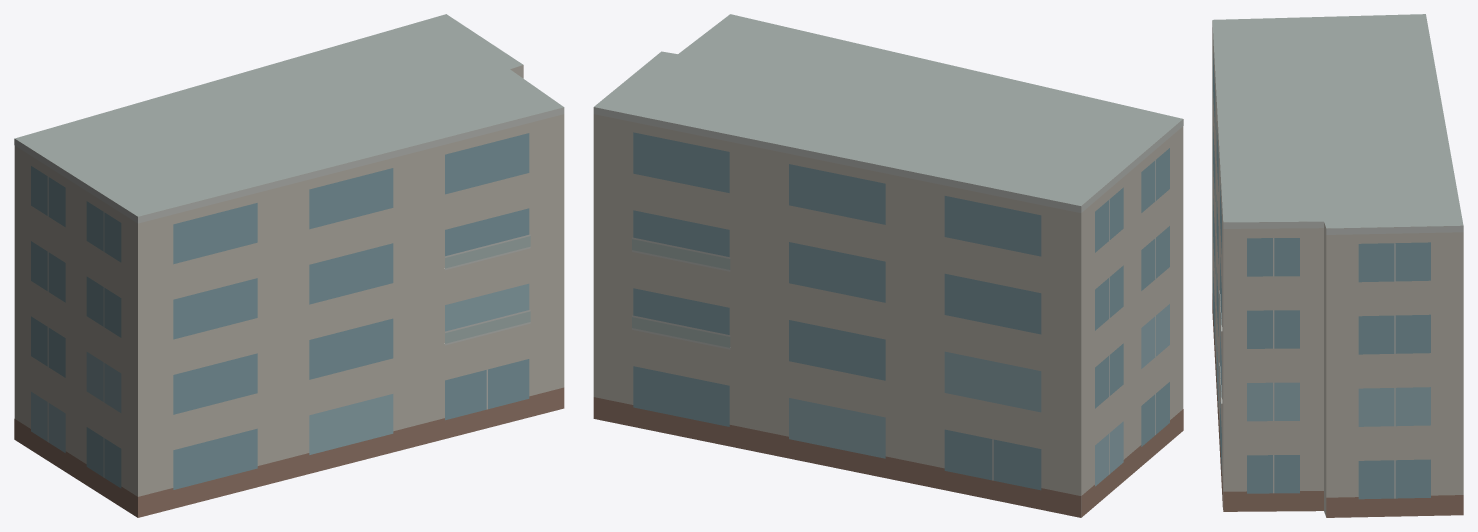
Rendered from survey-upis-32493929.glb.
3 renders of one model, left to right at view 1: azimuth 30°, elevation 25°; view 2: azimuth 150°, elevation 25°; view 3: azimuth 270°, elevation 25°, orthographic. The views are drawn at different scales.
Visible parts, largest first — view 1: survey-upis-32493929.tmp; view 2: survey-upis-32493929.tmp; view 3: survey-upis-32493929.tmp.
Part boxes in pixels (x1,y1,x2,y2): survey-upis-32493929.tmp: (14, 14, 564, 517); survey-upis-32493929.tmp: (593, 14, 1183, 517); survey-upis-32493929.tmp: (1212, 14, 1463, 517).
Bounding box in the file's own units: 17.17 × 10.8 × 8.51.
